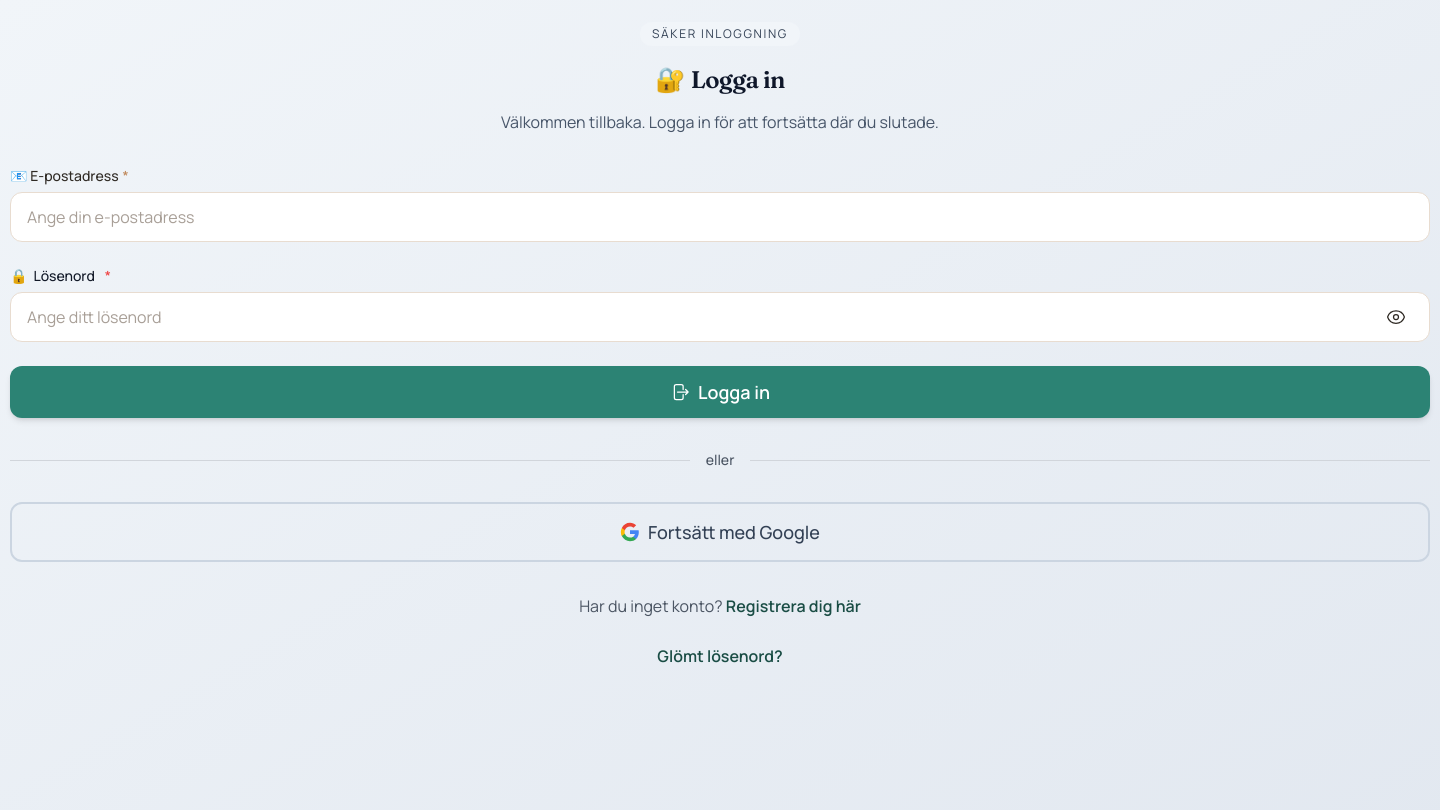
LoginForm › shows network error message when Network Error occurs
The width and height of the screenshot is (1440, 810).
Type "test@example.com" into the field with placeholder "Ange din e-postadress" at (720, 217), box [10, 192, 1430, 242]
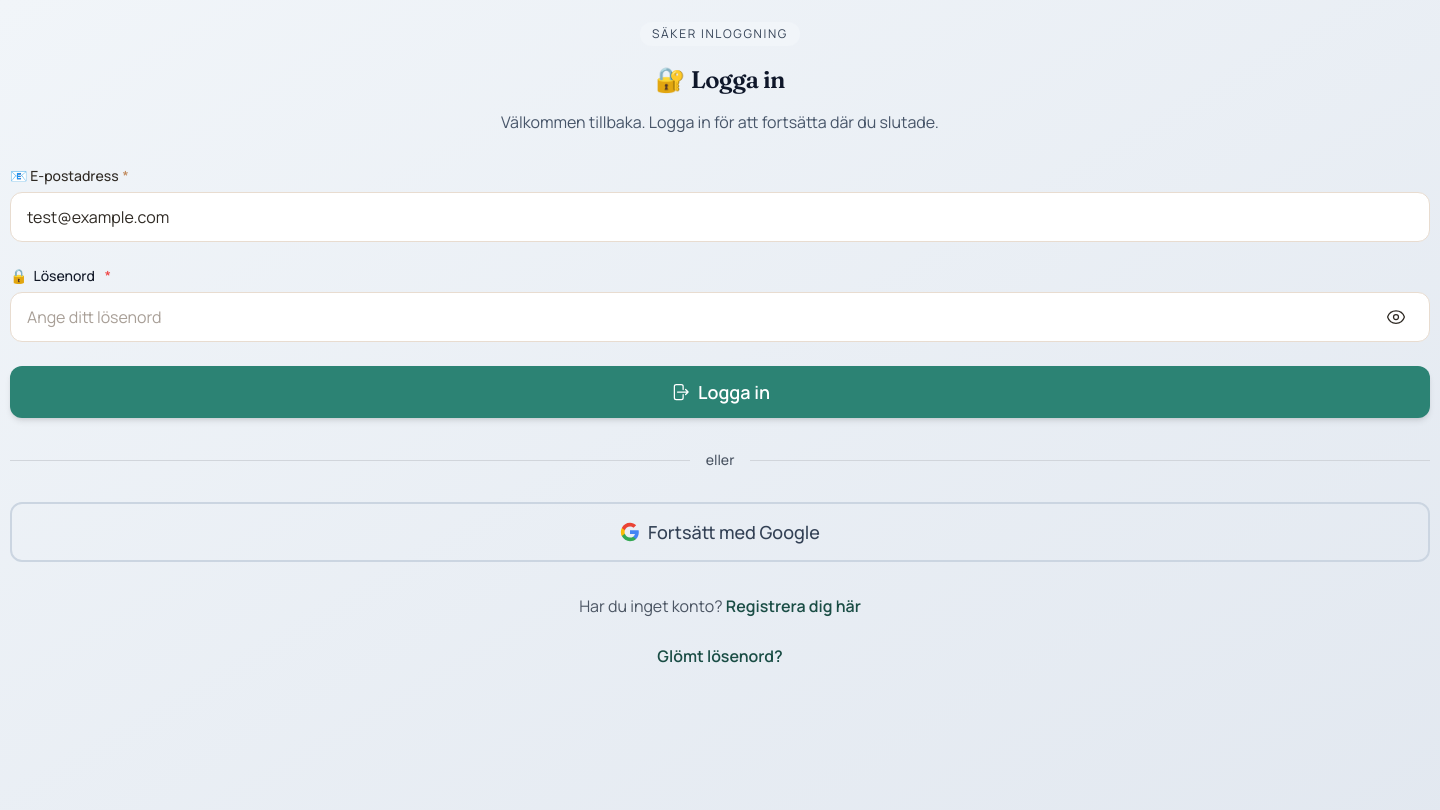
Type "pass123" into the password field with placeholder "Ange ditt lösenord" at (720, 317), box [10, 292, 1430, 342]
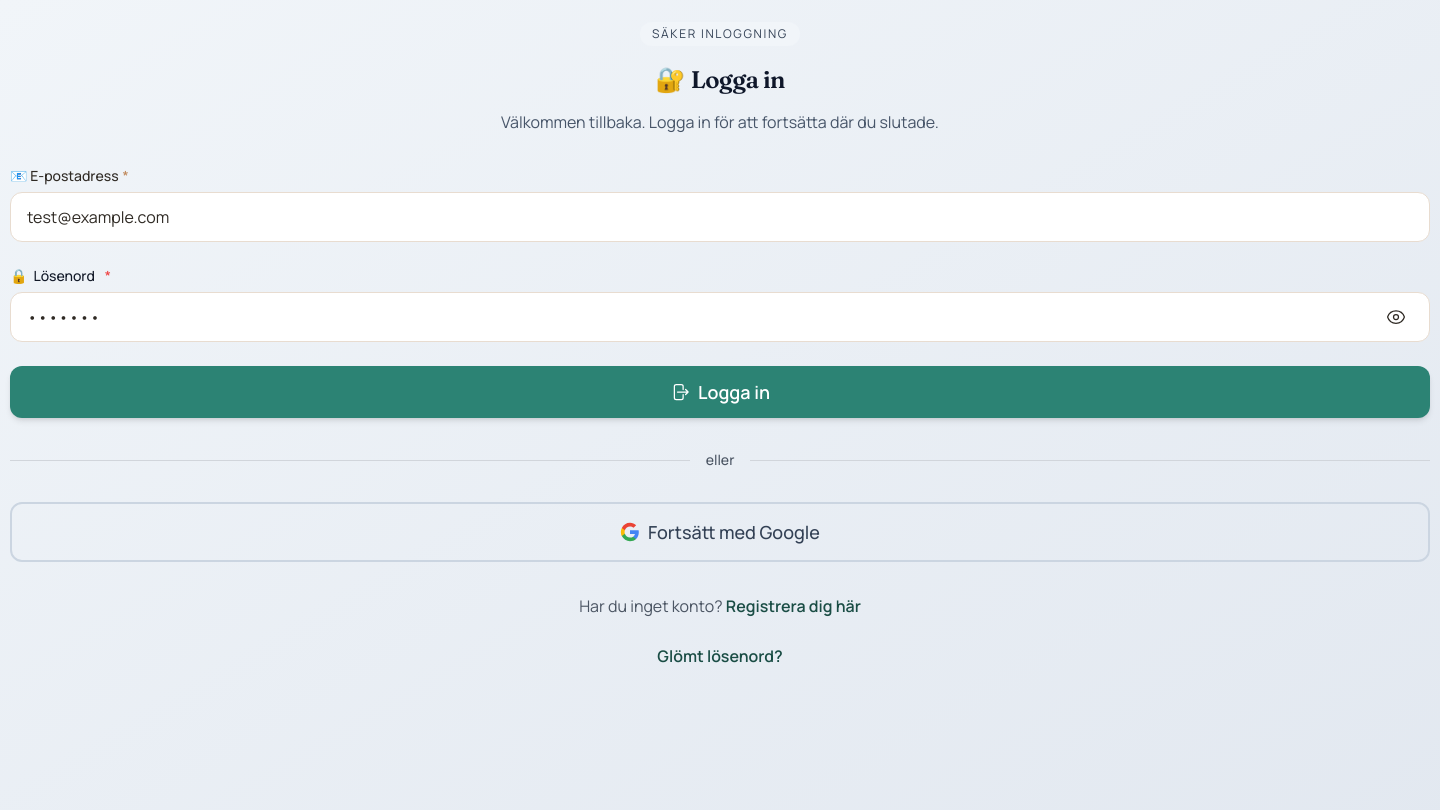
Click the button "Logga in" at (720, 392), box [10, 366, 1430, 418]
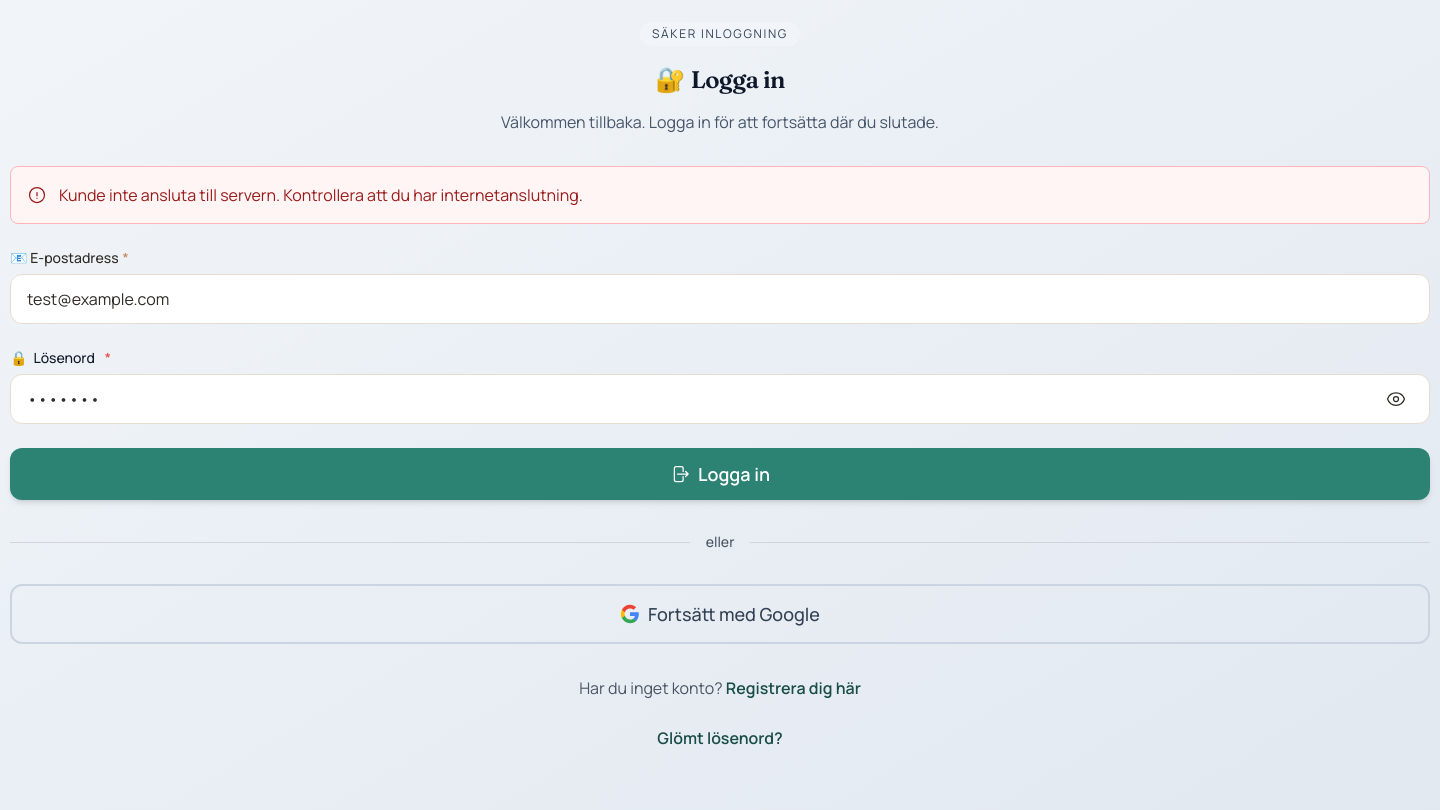
Expected: the text "Kunde inte ansluta" is shown, [59, 184, 583, 206]
